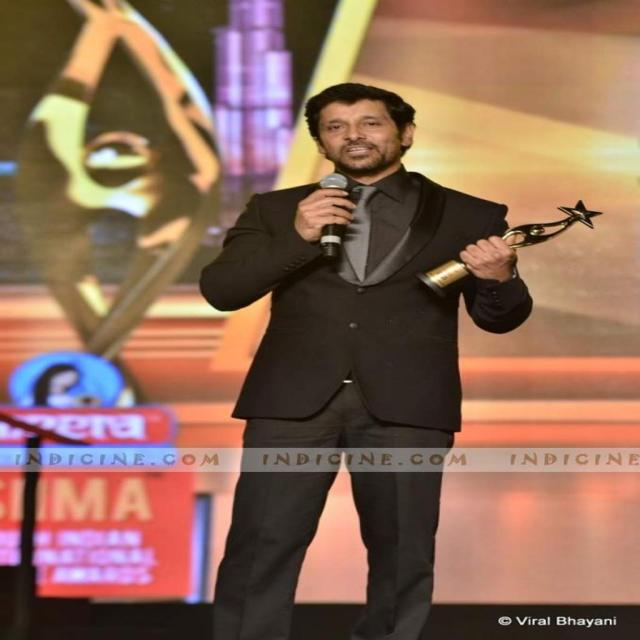Face: (322, 94, 417, 175)
